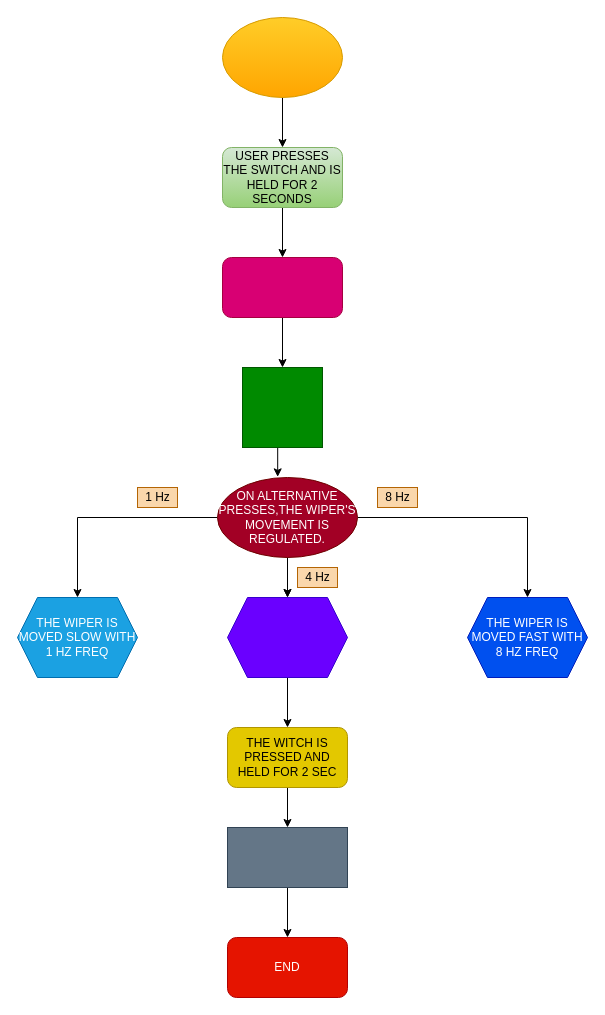
This 605x1015 diagram has some shape labels left out. The box of each missing label's shape, as (x1, y1, x2, y2) in pixels:
ON SECOND PRESS THE WIPER IS ON.: (242, 366, 322, 448)
RED LIGHT IS ON INDICATING CAR IS UNLOCKED: (222, 256, 342, 318)
START: (222, 16, 342, 98)
THE CAR IS LOCKED.: (226, 826, 348, 888)
THE WIPER IS MOVED MEDIUM WITH 4 HZ FREQ: (226, 596, 348, 678)
